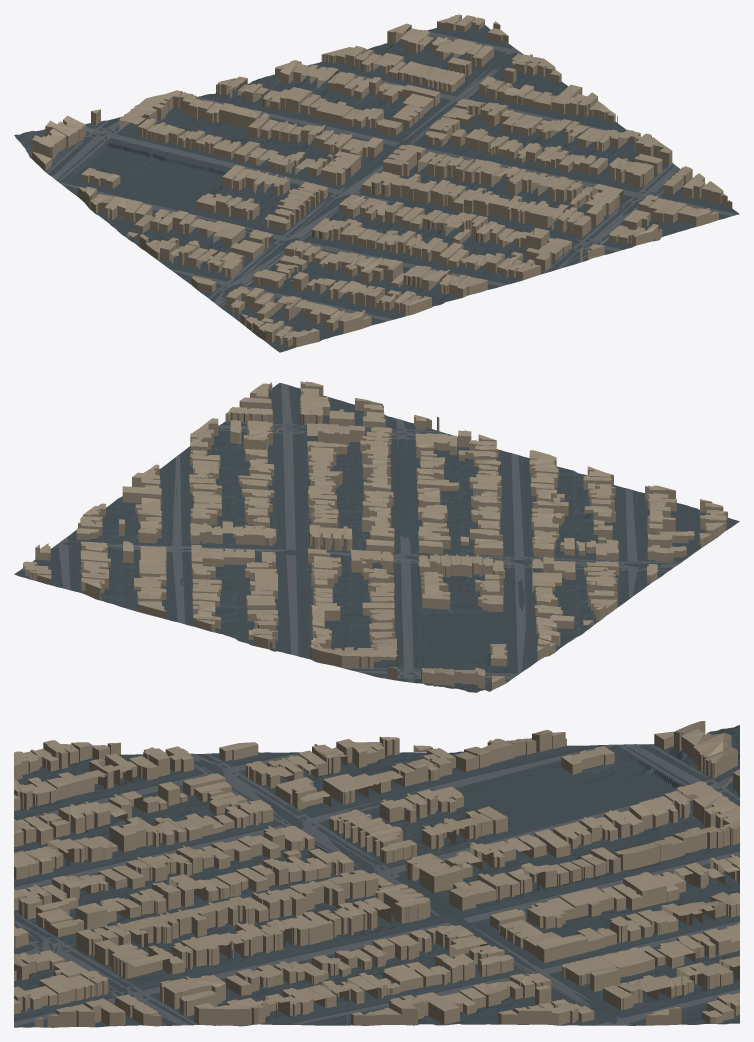
The model's file is epsg26910-1432-10872.lod0.glb.
3 views of the same model, one above another, from view 1: azimuth 30°, elevation 25°; view 2: azimuth 150°, elevation 25°; view 3: azimuth 270°, elevation 25° (orthographic). The views are drawn at different scales.
Parts seen in each view (by area): view 1: epsg26910-1432-10872-lod0; view 2: epsg26910-1432-10872-lod0; view 3: epsg26910-1432-10872-lod0.
Part boxes in pixels (x1,y1,x2,y2): epsg26910-1432-10872-lod0: (14,14,739,352); epsg26910-1432-10872-lod0: (14,381,739,692); epsg26910-1432-10872-lod0: (14,721,739,1027).
Size of the model in its own units: 384 by 32.39 by 384.
